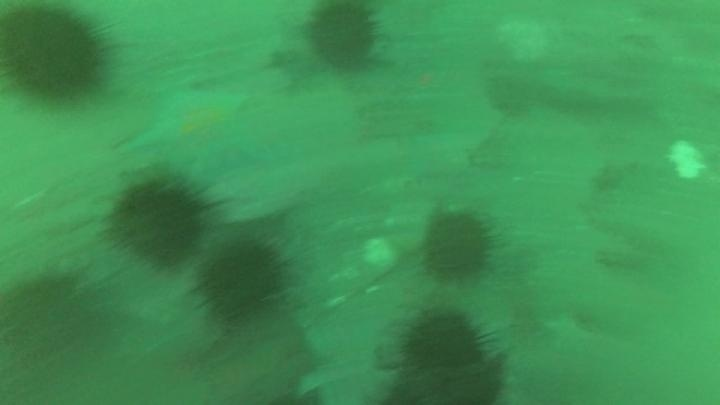echinus: (1, 3, 116, 107), (107, 173, 212, 268), (3, 268, 109, 360), (196, 234, 288, 323), (401, 307, 490, 373), (421, 208, 497, 284), (305, 2, 383, 73)
starfish: (120, 83, 265, 182), (293, 312, 403, 405)
